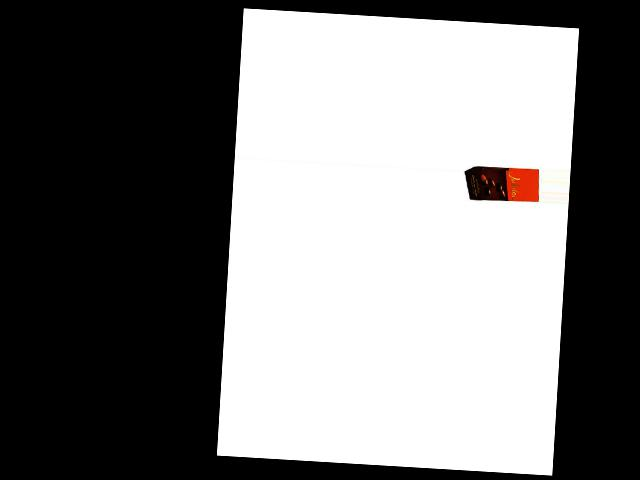chocolate: (463, 163, 540, 208)
